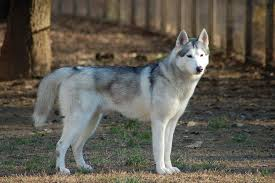Siberian Husky: (32, 26, 223, 175)
